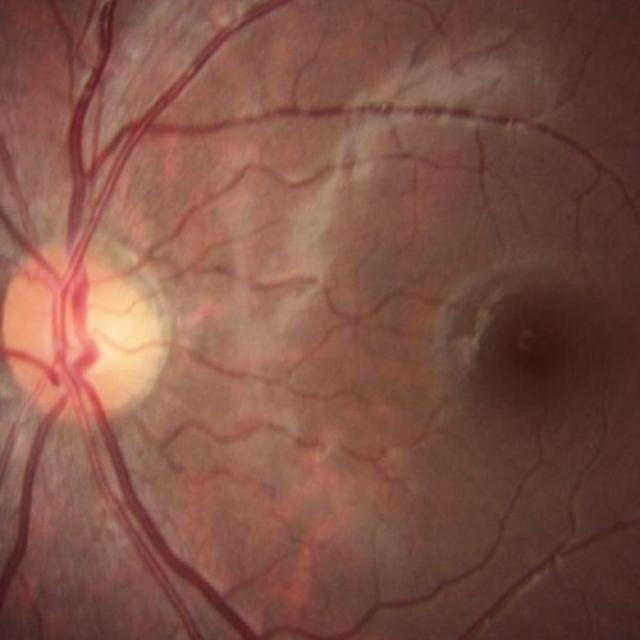OC: (49, 310, 128, 377)
OD: (0, 235, 165, 421)
